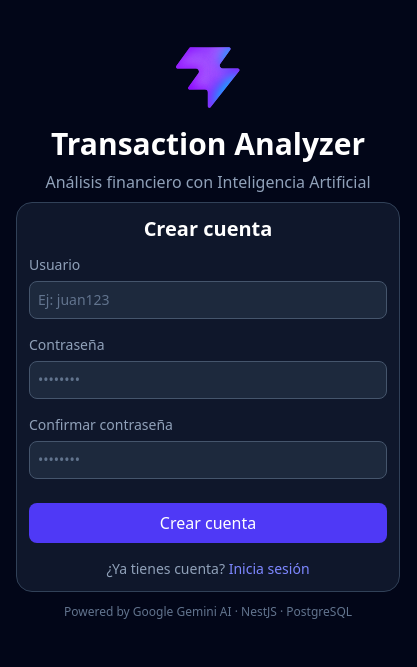
RegisterPage - validación de formulario › shows error when confirm password is empty
Type "juan" into the field with placeholder "Ej: juan123" at (208, 300), box 29,281 -> 387,319
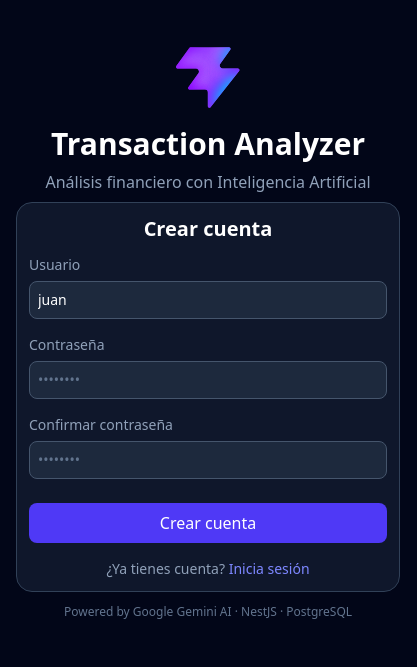
Type "password123" into the 1st password field with placeholder "••••••••" at (208, 380), box 29,361 -> 387,399
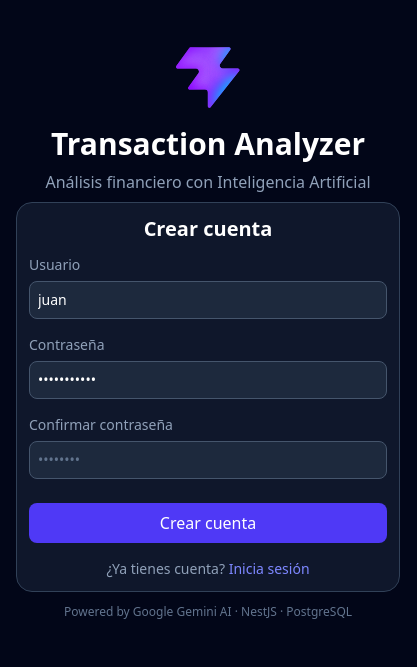
Click the button "Crear cuenta" at (208, 523), box 29,503 -> 387,543
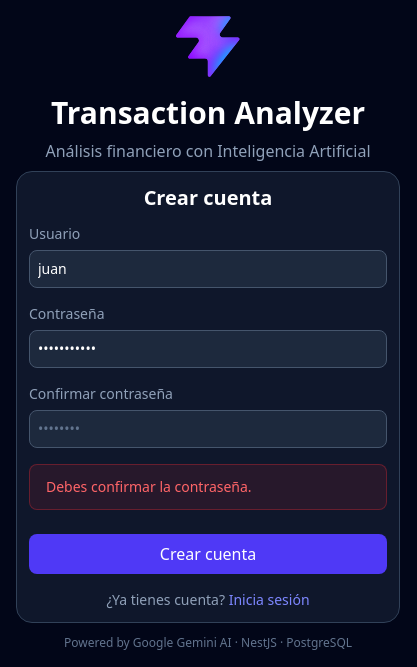
Now the text "Debes confirmar la contraseña." is shown, box 29,464 -> 387,510
